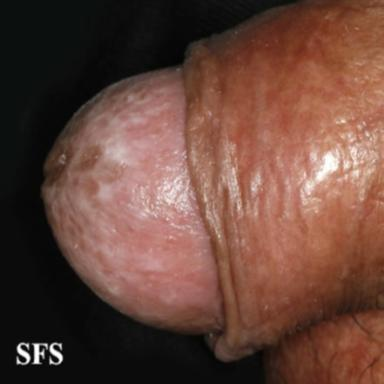lichen: (42, 68, 223, 333)
